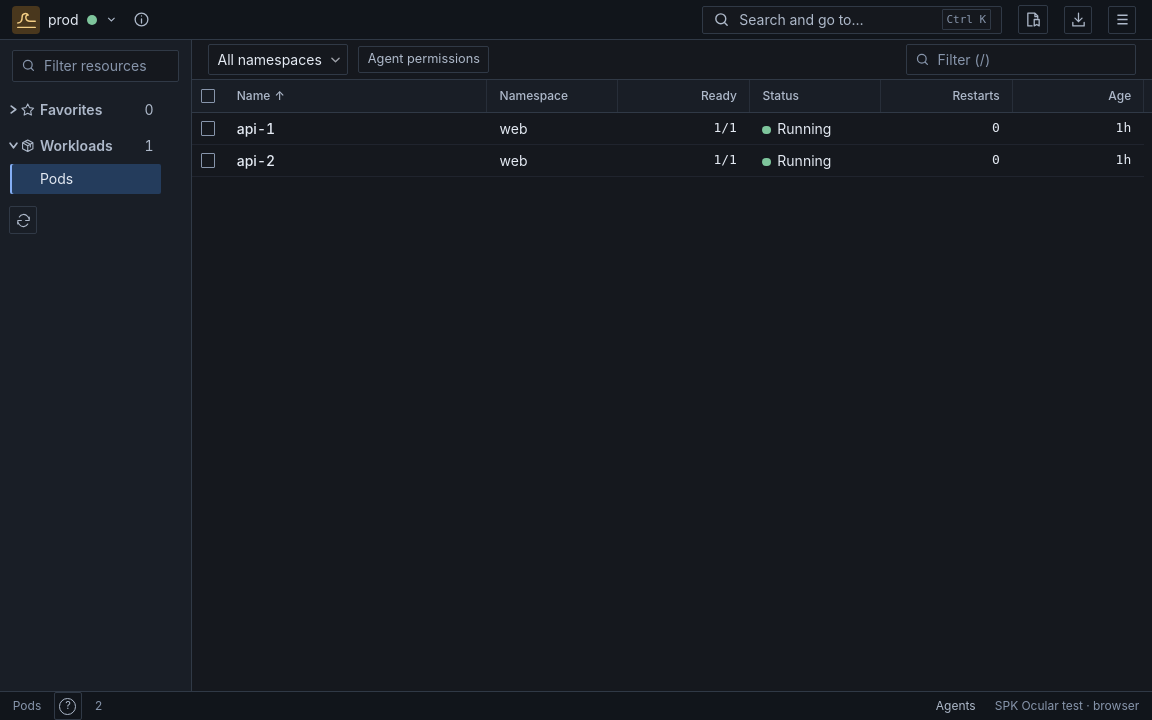
Scenario: terminal tabs › an unclosed quote in the command is shown, nothing opens
The width and height of the screenshot is (1152, 720).
Click the text "api-2".
click(256, 160)  # box [237, 152, 275, 169]
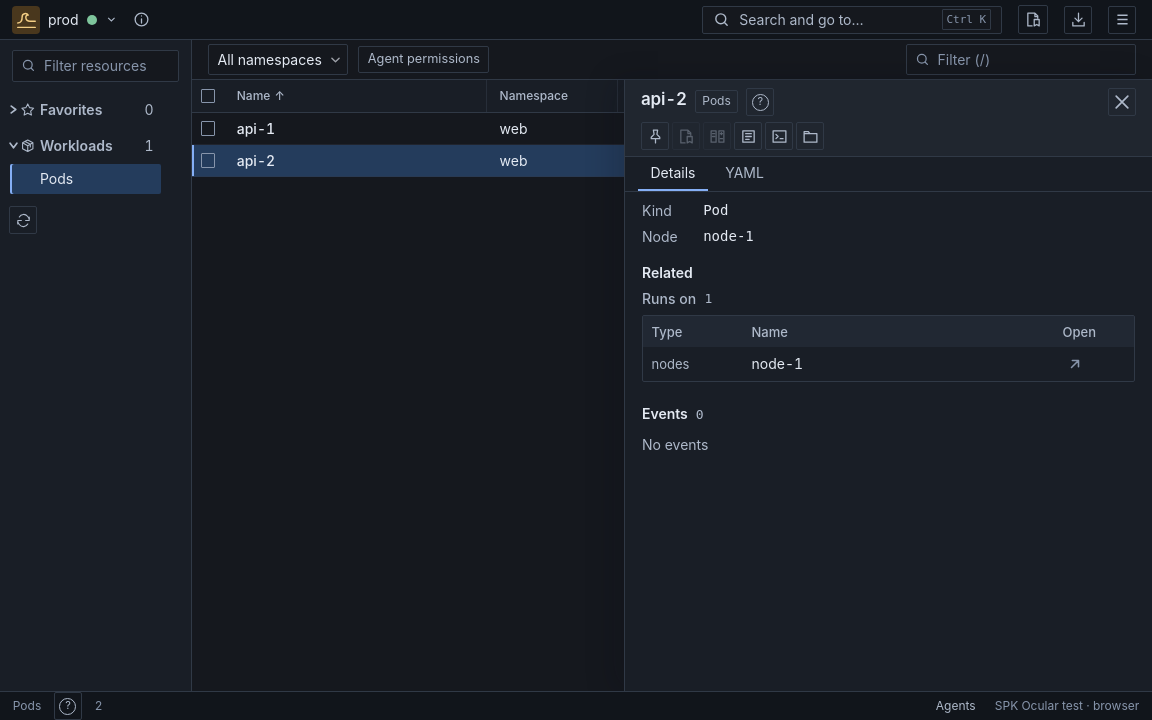
Type keys "{Shift>}S{/Shift}"
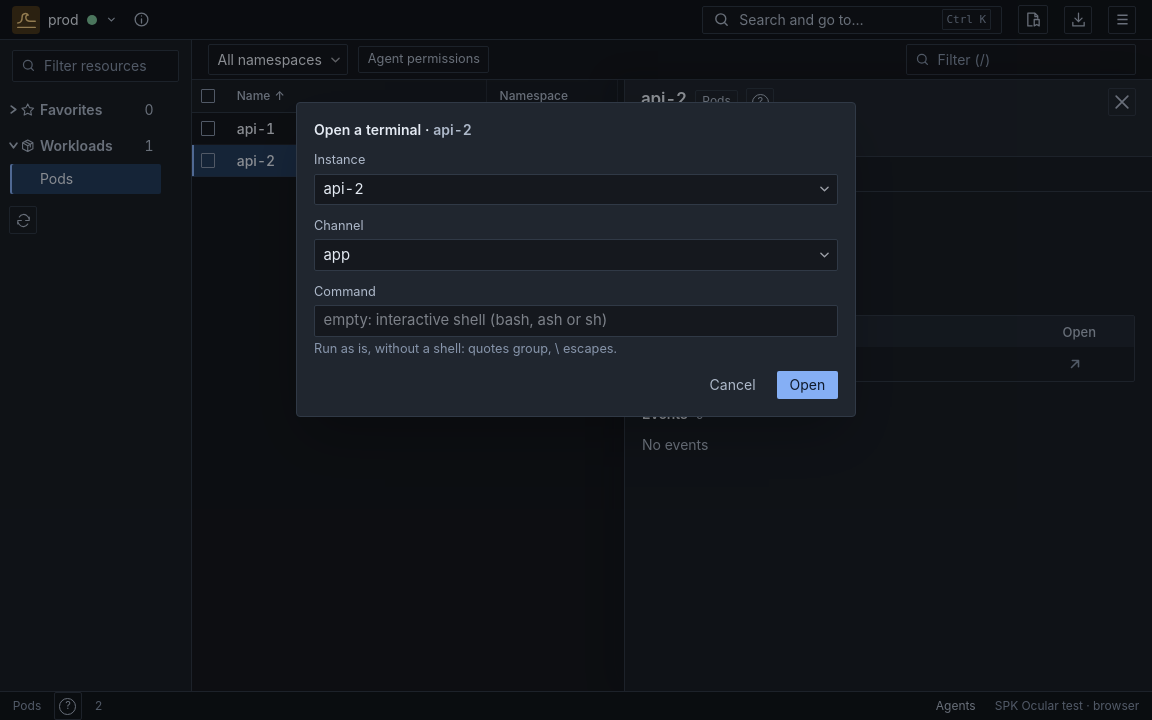
Type "echo 'oops" into the field labelled "Command Run as is, without a shell: quotes group, \\ escapes.".
click(576, 321); type("echo 'oops")  # box [314, 305, 838, 337]
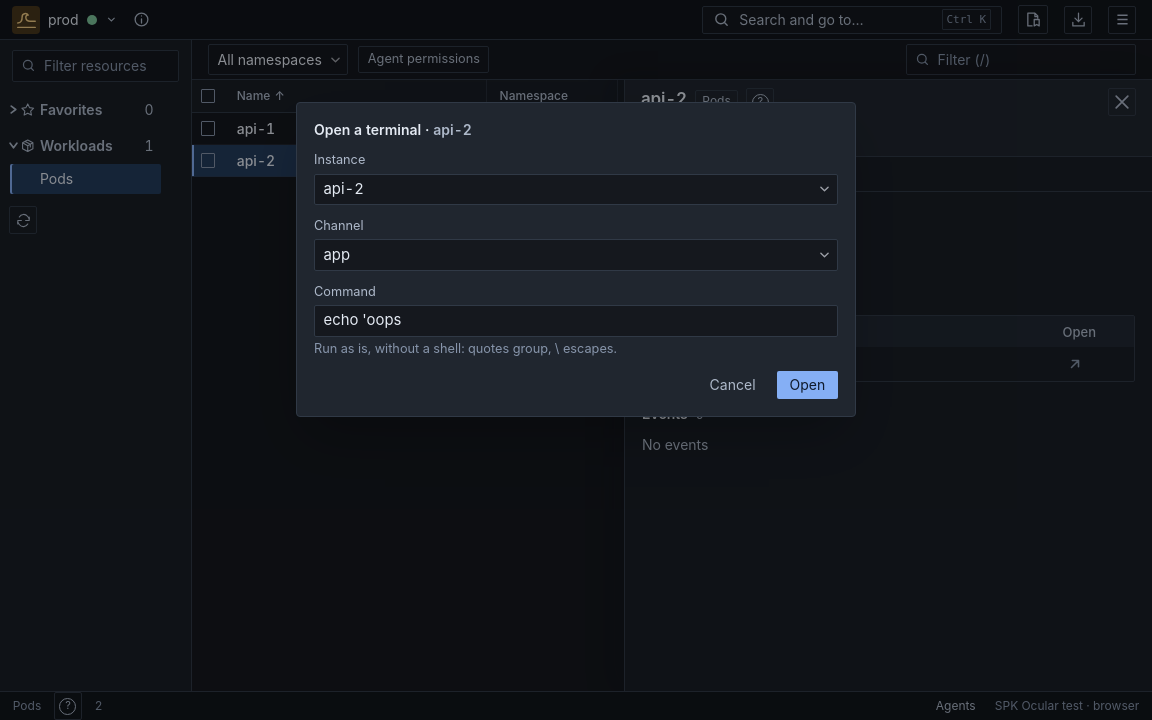
Click the button "Open".
click(807, 385)  # box [777, 371, 838, 399]
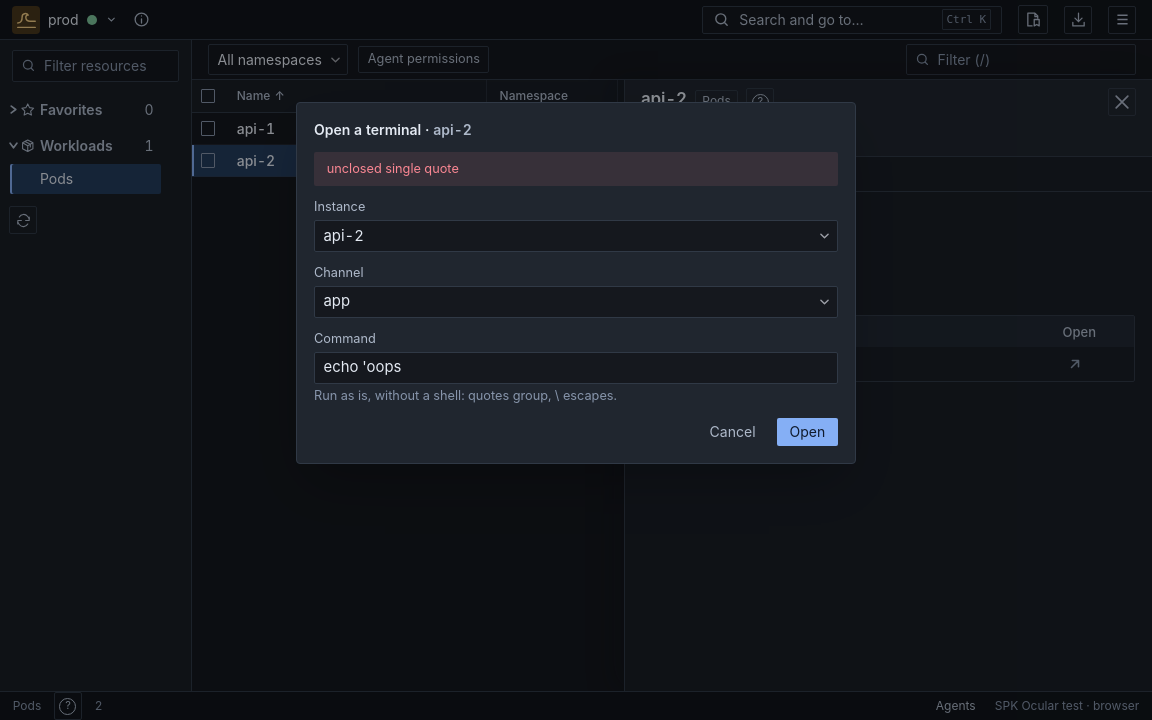
Now the message reads "unclosed single quote", box [327, 161, 459, 176]
